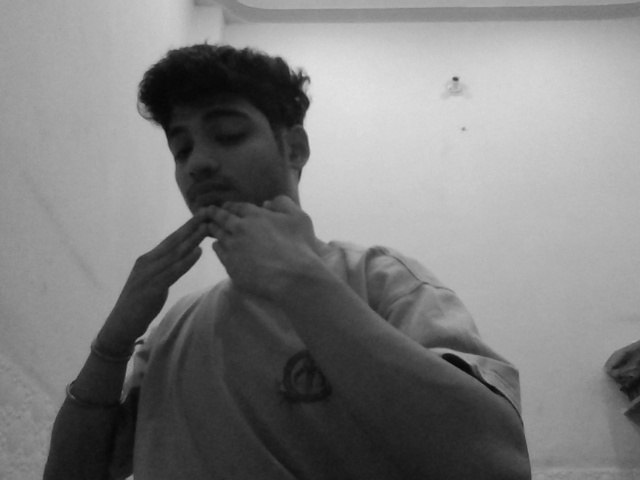Thanks: (97, 176, 359, 324)
